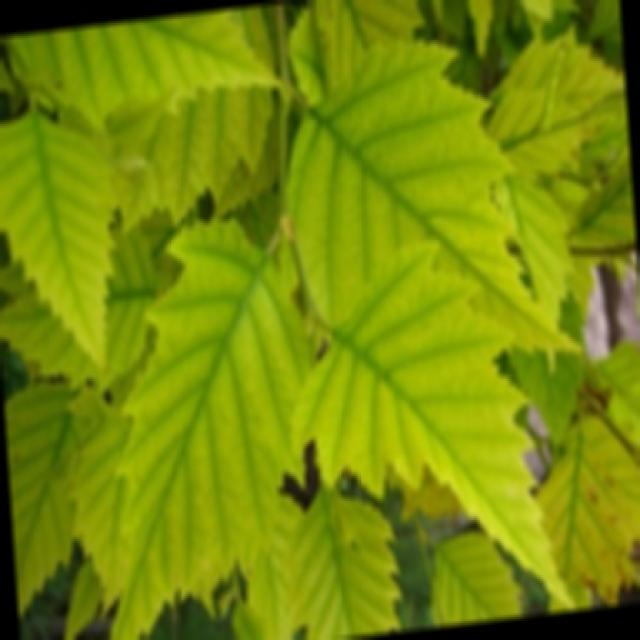Chlorosis: (13, 19, 614, 625)
